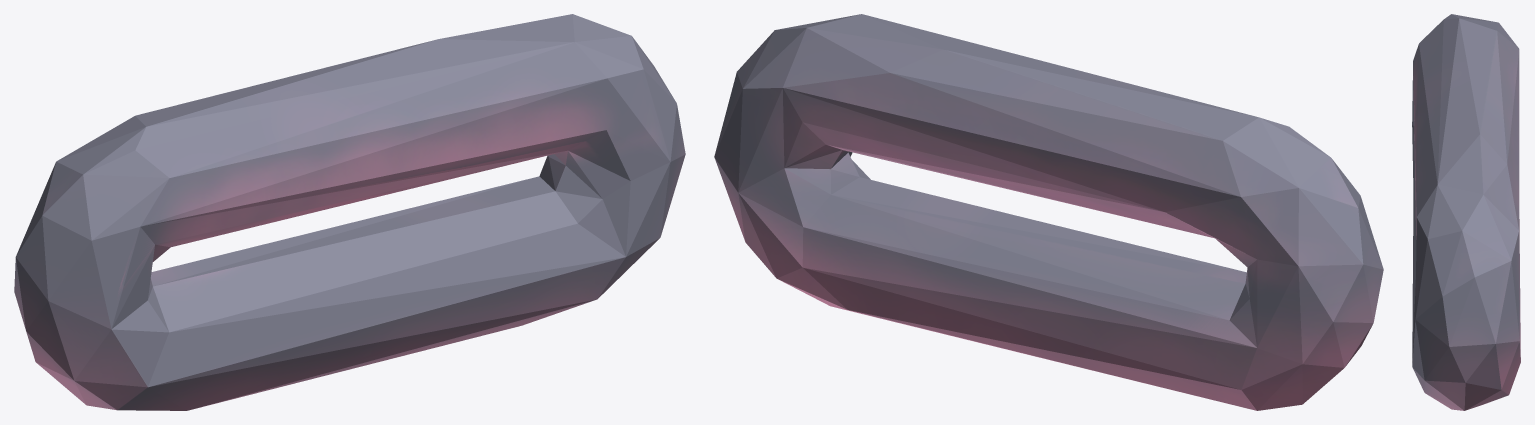
Rendered from mouth_open.dae.
3 renders of one model, left to right at view 1: azimuth 30°, elevation 25°; view 2: azimuth 150°, elevation 25°; view 3: azimuth 270°, elevation 25°, orthographic. The views are drawn at different scales.
Parts seen in each view (by area): view 1: mouth_open; view 2: mouth_open; view 3: mouth_open.
Boxes of the visible parts, box(x1,y1,x2,y2) form: mouth_open: box(14, 14, 685, 410); mouth_open: box(714, 14, 1383, 410); mouth_open: box(1412, 14, 1520, 410).
Size of the model in its own units: 0.5518 by 0.1004 by 0.236.
Materials: 1 (1 with a texture image).
